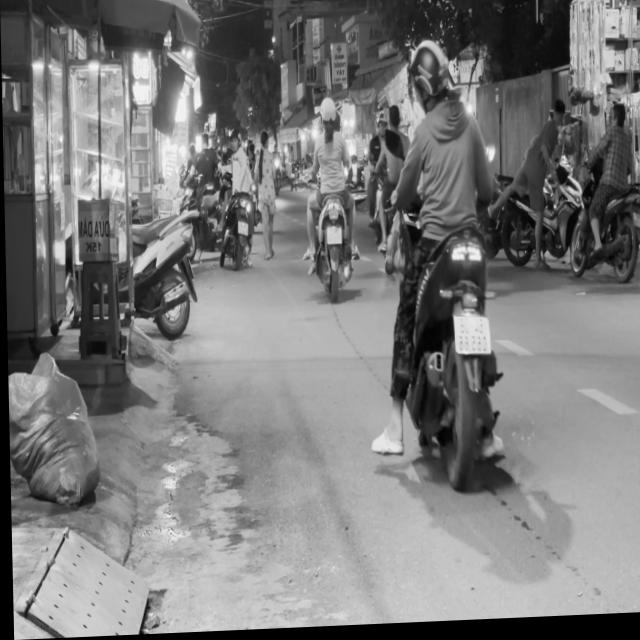helmet: (408, 41, 455, 117), (320, 98, 339, 132)
licenseplate: (374, 37, 508, 495), (301, 95, 360, 303)
nohelmet: (453, 317, 490, 358), (326, 228, 342, 247)
